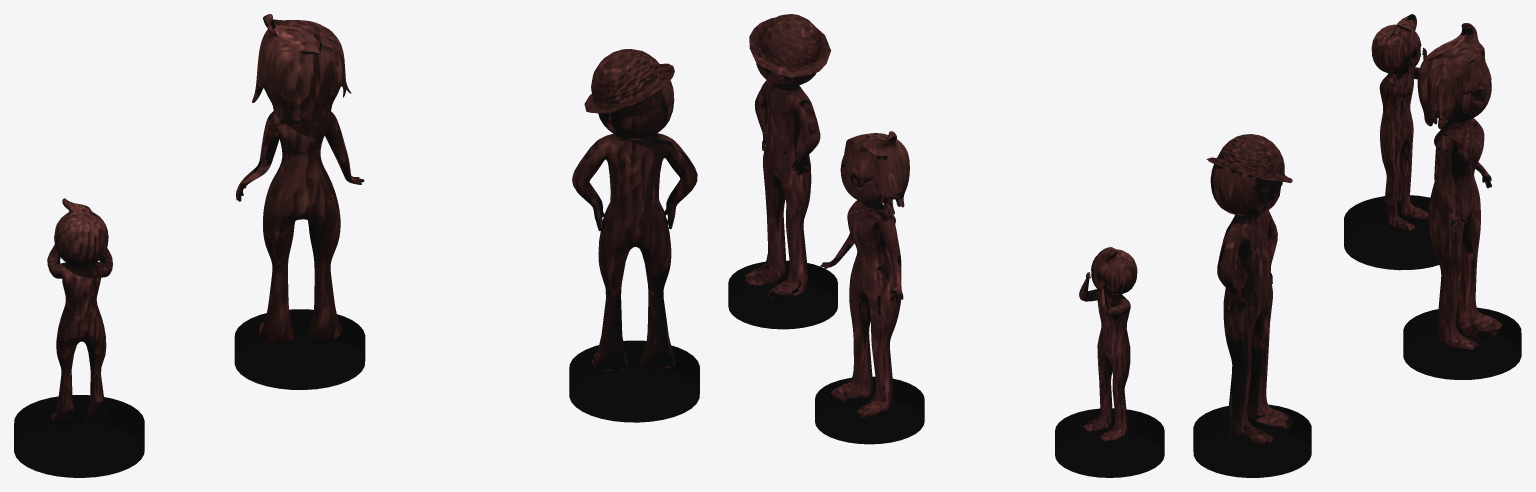
The model's file is wood-A4E8knXY.glb.
3 renders of one model, left to right at view 1: azimuth 30°, elevation 25°; view 2: azimuth 150°, elevation 25°; view 3: azimuth 270°, elevation 25°, orthographic. The views are drawn at different scales.
Visible parts, largest first — view 1: women, man, child, Circle.002, Circle, Circle.001, hat; view 2: women, man, child, Circle.002, Circle, Circle.001, hat; view 3: women, man, child, Circle, Circle.001, Circle.002, hat.
Boxes of the visible parts, x1=… form: women: x1=236, y1=14, x2=364, y2=344; man: x1=572, y1=80, x2=697, y2=371; child: x1=47, y1=198, x2=112, y2=426; Circle.002: x1=14, y1=395, x2=144, y2=477; Circle: x1=569, y1=340, x2=699, y2=422; Circle.001: x1=234, y1=309, x2=365, y2=389; hat: x1=584, y1=49, x2=674, y2=113; women: x1=820, y1=131, x2=909, y2=417; man: x1=744, y1=62, x2=820, y2=299; child: x1=1079, y1=247, x2=1137, y2=441; Circle.002: x1=1055, y1=408, x2=1164, y2=477; Circle: x1=728, y1=260, x2=837, y2=329; Circle.001: x1=815, y1=376, x2=924, y2=444; hat: x1=749, y1=14, x2=830, y2=77; women: x1=1417, y1=23, x2=1502, y2=351; man: x1=1210, y1=164, x2=1293, y2=445; child: x1=1371, y1=14, x2=1427, y2=231; Circle: x1=1193, y1=404, x2=1311, y2=477; Circle.001: x1=1403, y1=307, x2=1521, y2=379; Circle.002: x1=1344, y1=195, x2=1439, y2=270; hat: x1=1206, y1=134, x2=1292, y2=183.
Size of the model in its own units: 1.01 by 0.5869 by 0.5421.
1 material, 1 textured.
